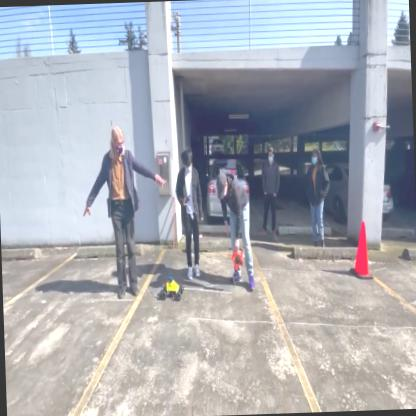cone: (350, 216, 376, 284)
mushr_car: (154, 273, 184, 304)
